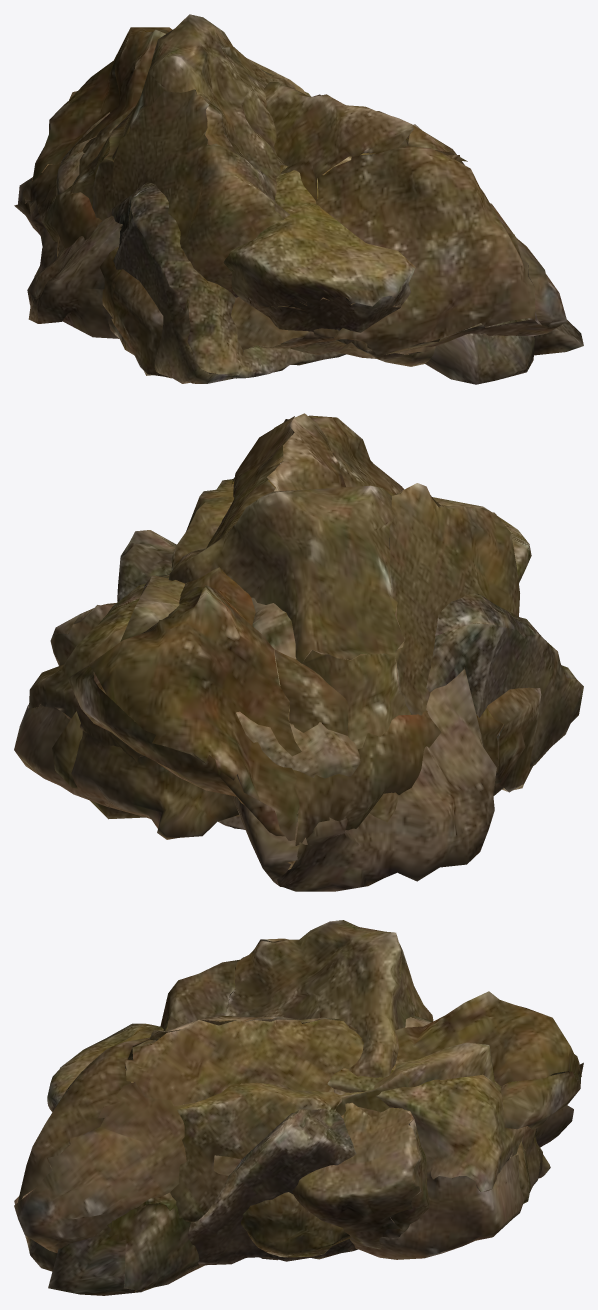
File: pedras_musgo.glb
3 views of the same model, one above another, from view 1: azimuth 30°, elevation 25°; view 2: azimuth 150°, elevation 25°; view 3: azimuth 270°, elevation 25° (orthographic). The views are drawn at different scales.
Visible parts, largest first — view 1: rock01, rock04, rock05, rock03, rock02, rock06; view 2: rock01, rock04, rock02, rock05, rock03, rock06; view 3: rock01, rock04, rock05, rock06, rock02, rock03.
Part boxes in pixels (bbox=[...]): rock01: bbox=[22, 27, 566, 378]; rock04: bbox=[57, 14, 320, 297]; rock05: bbox=[56, 92, 415, 354]; rock03: bbox=[108, 124, 421, 383]; rock02: bbox=[14, 110, 583, 384]; rock06: bbox=[247, 58, 437, 366]; rock01: bbox=[67, 413, 541, 845]; rock04: bbox=[50, 483, 519, 822]; rock02: bbox=[232, 582, 496, 891]; rock05: bbox=[14, 497, 531, 839]; rock03: bbox=[117, 530, 583, 829]; rock06: bbox=[52, 479, 499, 819]; rock01: bbox=[14, 991, 583, 1260]; rock04: bbox=[160, 920, 433, 1249]; rock05: bbox=[47, 1023, 550, 1259]; rock06: bbox=[103, 1042, 530, 1257]; rock02: bbox=[25, 1016, 573, 1295]; rock03: bbox=[187, 1108, 357, 1265].
Size of the model in its own units: 2.64 by 1.77 by 3.39.
Materials: 1 (1 with a texture image).
